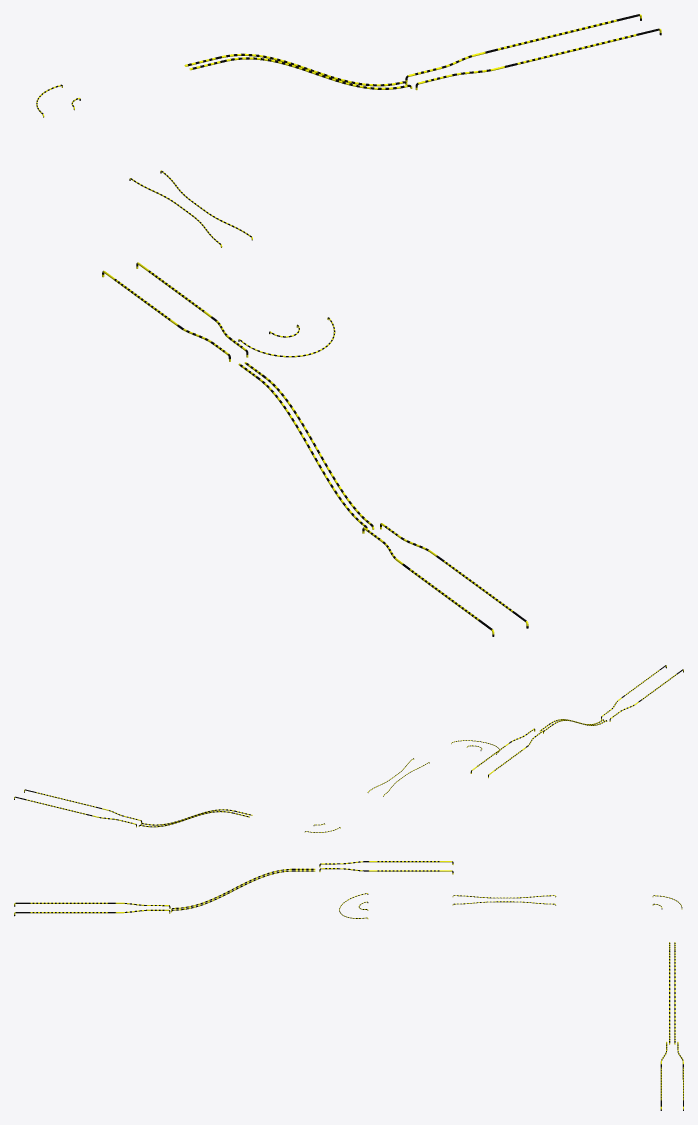
The model's file is rod_9.FBX.
3 renders of one model, top to bottom at view 1: azimuth 30°, elevation 25°; view 2: azimuth 150°, elevation 25°; view 3: azimuth 270°, elevation 25°, orthographic. The views are drawn at different scales.
Parts seen in each view (by area): view 1: rod_9; view 2: rod_9; view 3: rod_9.
Part boxes in pixels (<box>): rod_9: <box>36,14,661,636</box>; rod_9: <box>14,665,683,832</box>; rod_9: <box>14,861,683,1110</box>.
Size of the model in its own units: 8938 by 937 by 12393.
